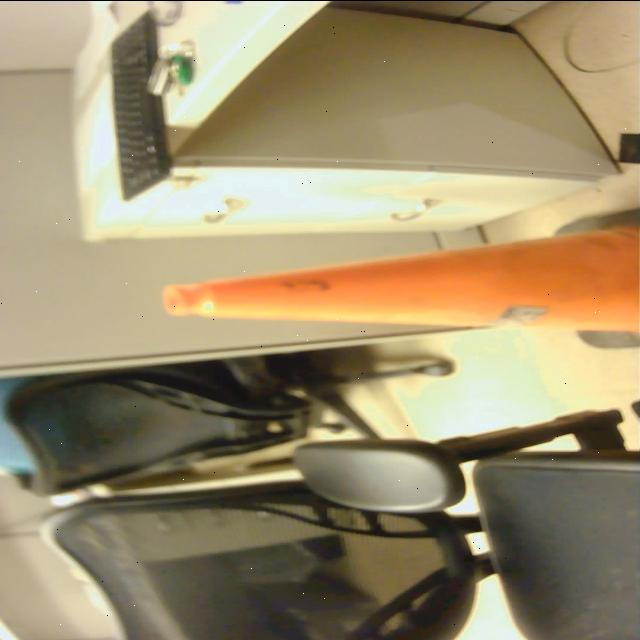traffic cone: (159, 204, 640, 353)
